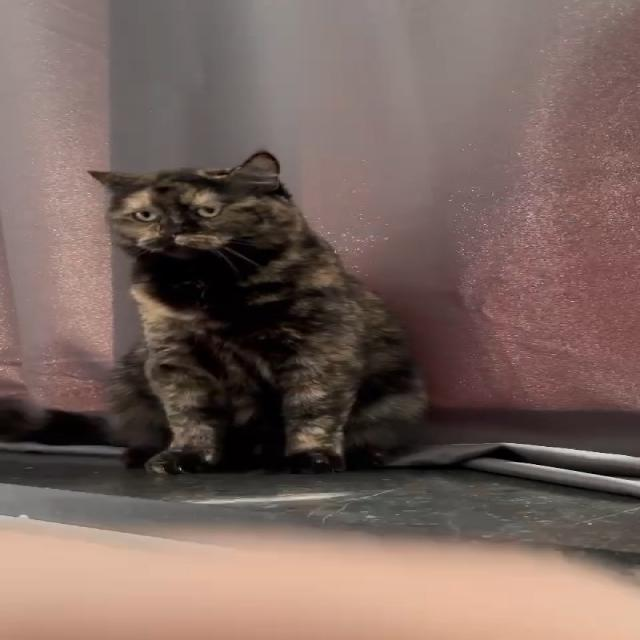authorized: (86, 150, 430, 476)
